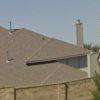Chimney: (69, 15, 95, 59)
